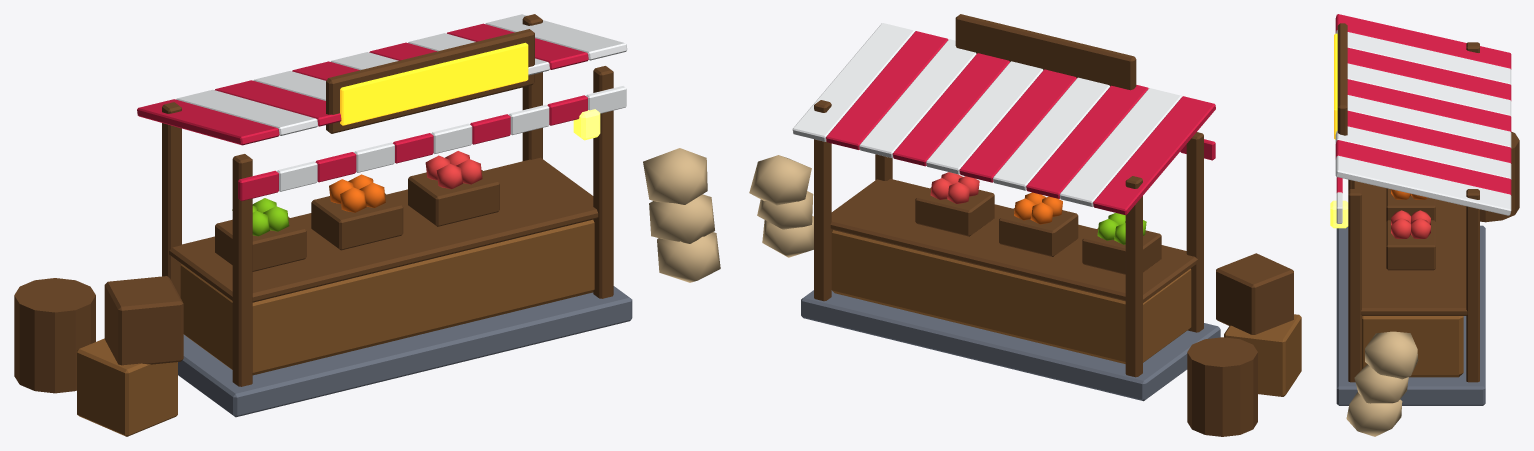
The model's file is market.glb.
3 renders of one model, left to right at view 1: azimuth 30°, elevation 25°; view 2: azimuth 150°, elevation 25°; view 3: azimuth 270°, elevation 25°, orthographic. The views are drawn at different scales.
Parts seen in each view (by area): view 1: g_m_6b4423, g_m_8a5a2b, g_m_6b7280, g_m_e11d48, g_m_f8fafc, g_m_d6b88a, g_m_fbbf24_e, g_m_f97316, g_m_ef4444, g_m_84cc16, g_m_fde68a_e; view 2: g_m_6b4423, g_m_8a5a2b, g_m_e11d48, g_m_f8fafc, g_m_6b7280, g_m_d6b88a, g_m_ef4444, g_m_f97316, g_m_84cc16; view 3: g_m_6b4423, g_m_f8fafc, g_m_e11d48, g_m_6b7280, g_m_d6b88a, g_m_8a5a2b, g_m_ef4444, g_m_fbbf24_e, g_m_fde68a_e, g_m_f97316.
Boxes of the visible parts, box(x1,y1,x2,y2) form: g_m_6b4423: box(14, 14, 613, 393); g_m_8a5a2b: box(77, 219, 594, 436); g_m_6b7280: box(178, 286, 632, 417); g_m_e11d48: box(137, 23, 588, 201); g_m_f8fafc: box(176, 14, 627, 191); g_m_d6b88a: box(643, 148, 720, 282); g_m_fbbf24_e: box(340, 42, 528, 125); g_m_f97316: box(329, 174, 385, 212); g_m_ef4444: box(425, 151, 482, 189); g_m_84cc16: box(232, 198, 289, 236); g_m_fde68a_e: box(573, 109, 600, 140); g_m_6b4423: box(814, 14, 1293, 436); g_m_8a5a2b: box(831, 230, 1301, 396); g_m_e11d48: box(826, 31, 1215, 215); g_m_f8fafc: box(792, 23, 1181, 206); g_m_6b7280: box(801, 290, 1220, 401); g_m_d6b88a: box(749, 155, 813, 257); g_m_ef4444: box(930, 172, 979, 203); g_m_f97316: box(1014, 192, 1062, 224); g_m_84cc16: box(1097, 213, 1146, 244); g_m_6b4423: box(1337, 23, 1519, 382); g_m_f8fafc: box(1335, 30, 1511, 223); g_m_e11d48: box(1335, 14, 1511, 195); g_m_6b7280: box(1336, 225, 1485, 405); g_m_d6b88a: box(1346, 331, 1418, 436); g_m_8a5a2b: box(1362, 316, 1463, 377); g_m_ef4444: box(1391, 210, 1430, 238); g_m_fbbf24_e: box(1334, 33, 1337, 139); g_m_fde68a_e: box(1330, 200, 1348, 228); g_m_f97316: box(1391, 189, 1427, 199).
Size of the model in its own units: 9.8 by 4.65 by 3.05.
